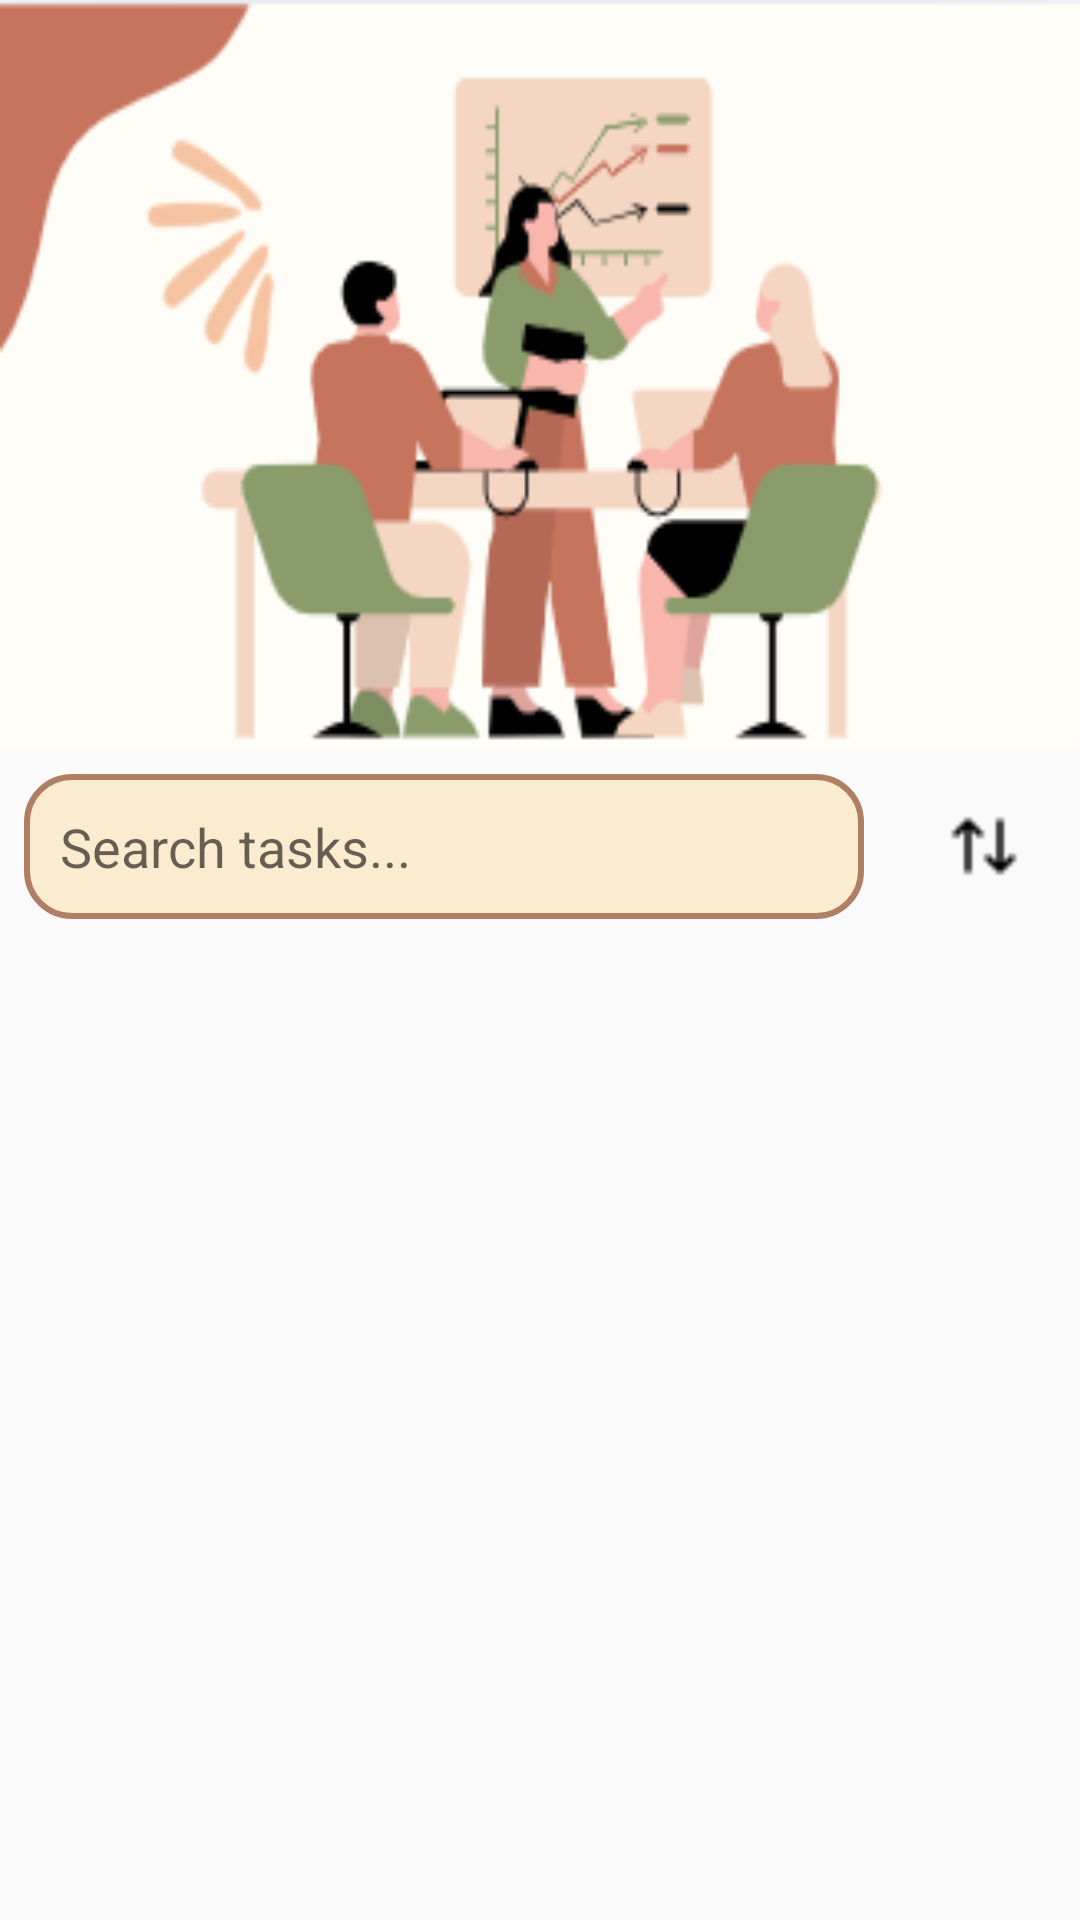

Screen size 1080 x 1920. Icon name, then its center in pixels as [x,y]:
Sort Tasks: [984,846]
